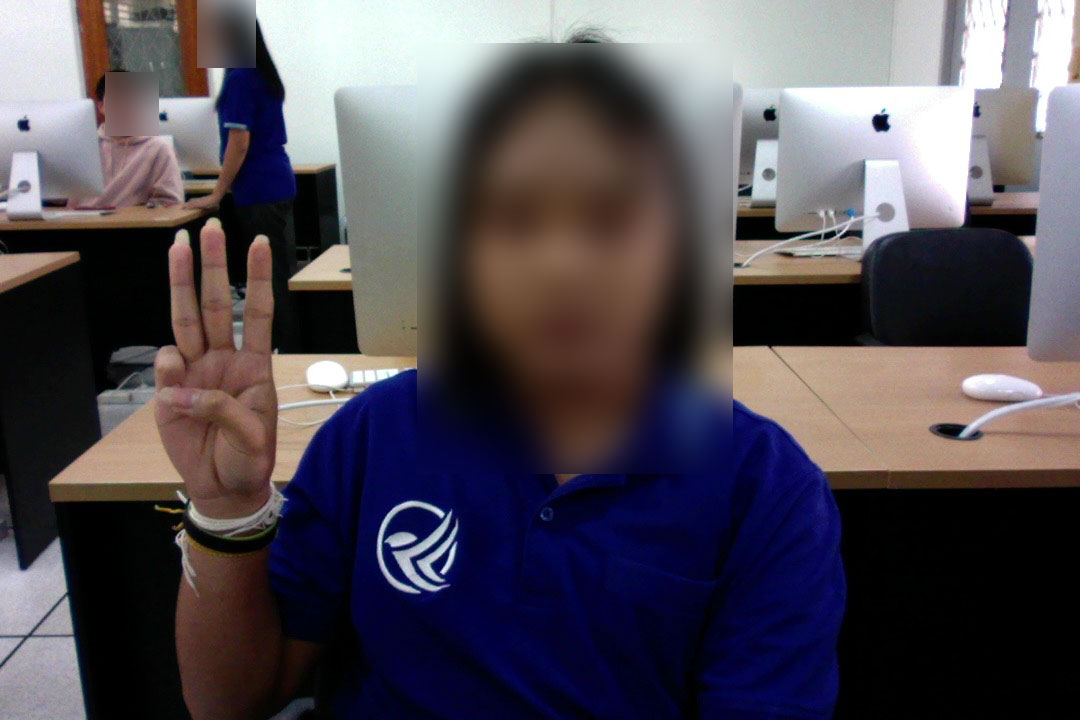wor: (142, 216, 297, 506)
